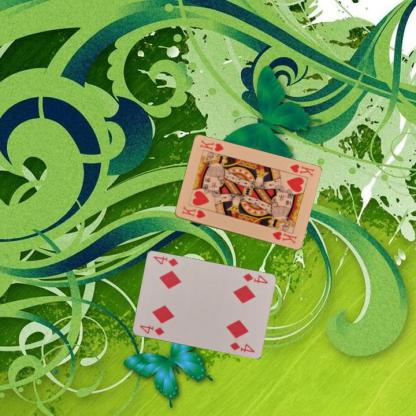4d: (137, 322, 165, 337), (240, 271, 269, 285)
Kh: (287, 162, 315, 178), (179, 204, 206, 220)
